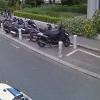Motorcycle: (20, 17, 80, 53)
